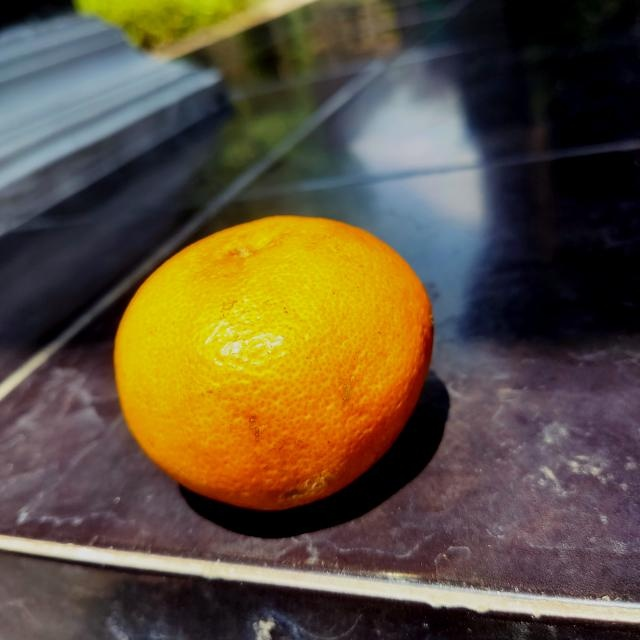agrume: (109, 213, 437, 515)
